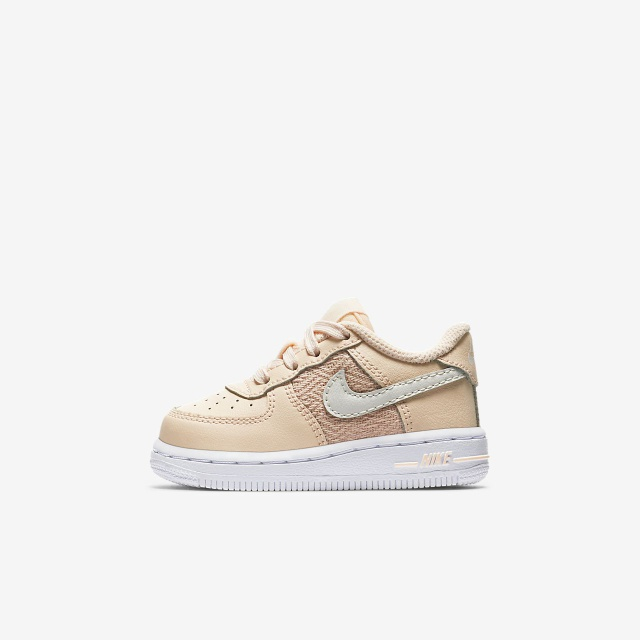nike: (317, 365, 466, 425)
